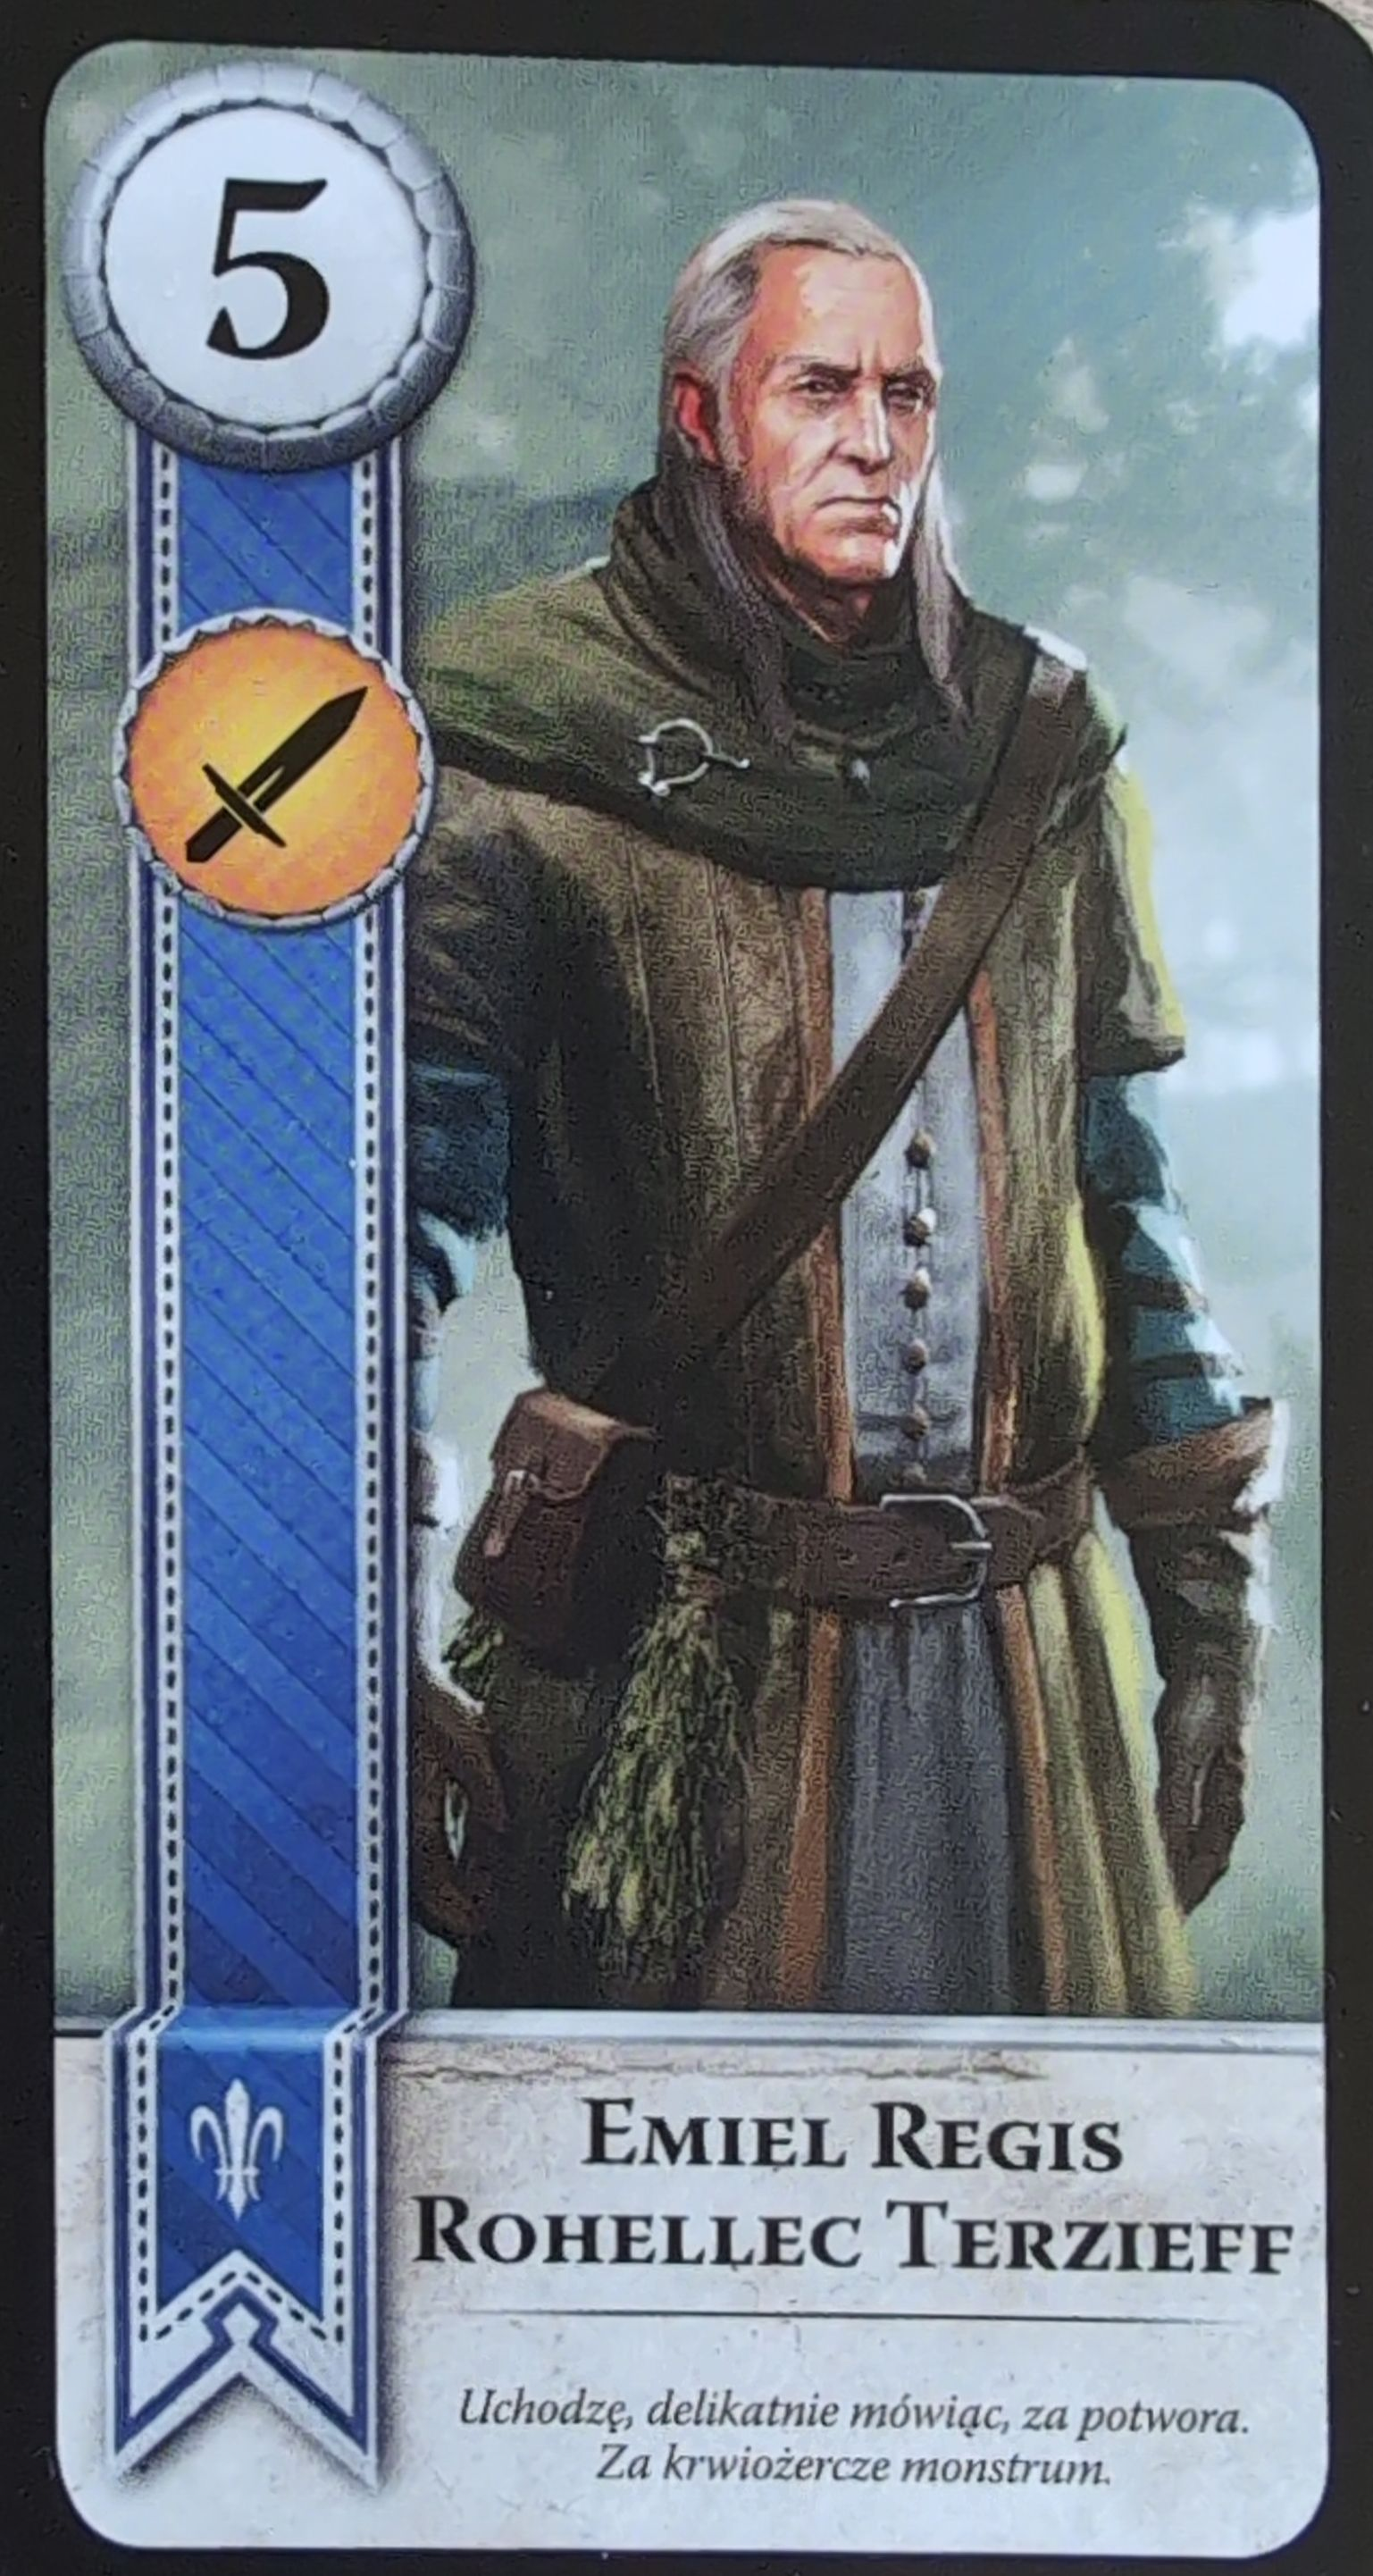miecz: (95, 576, 470, 946)
punkty: (87, 66, 482, 486)
